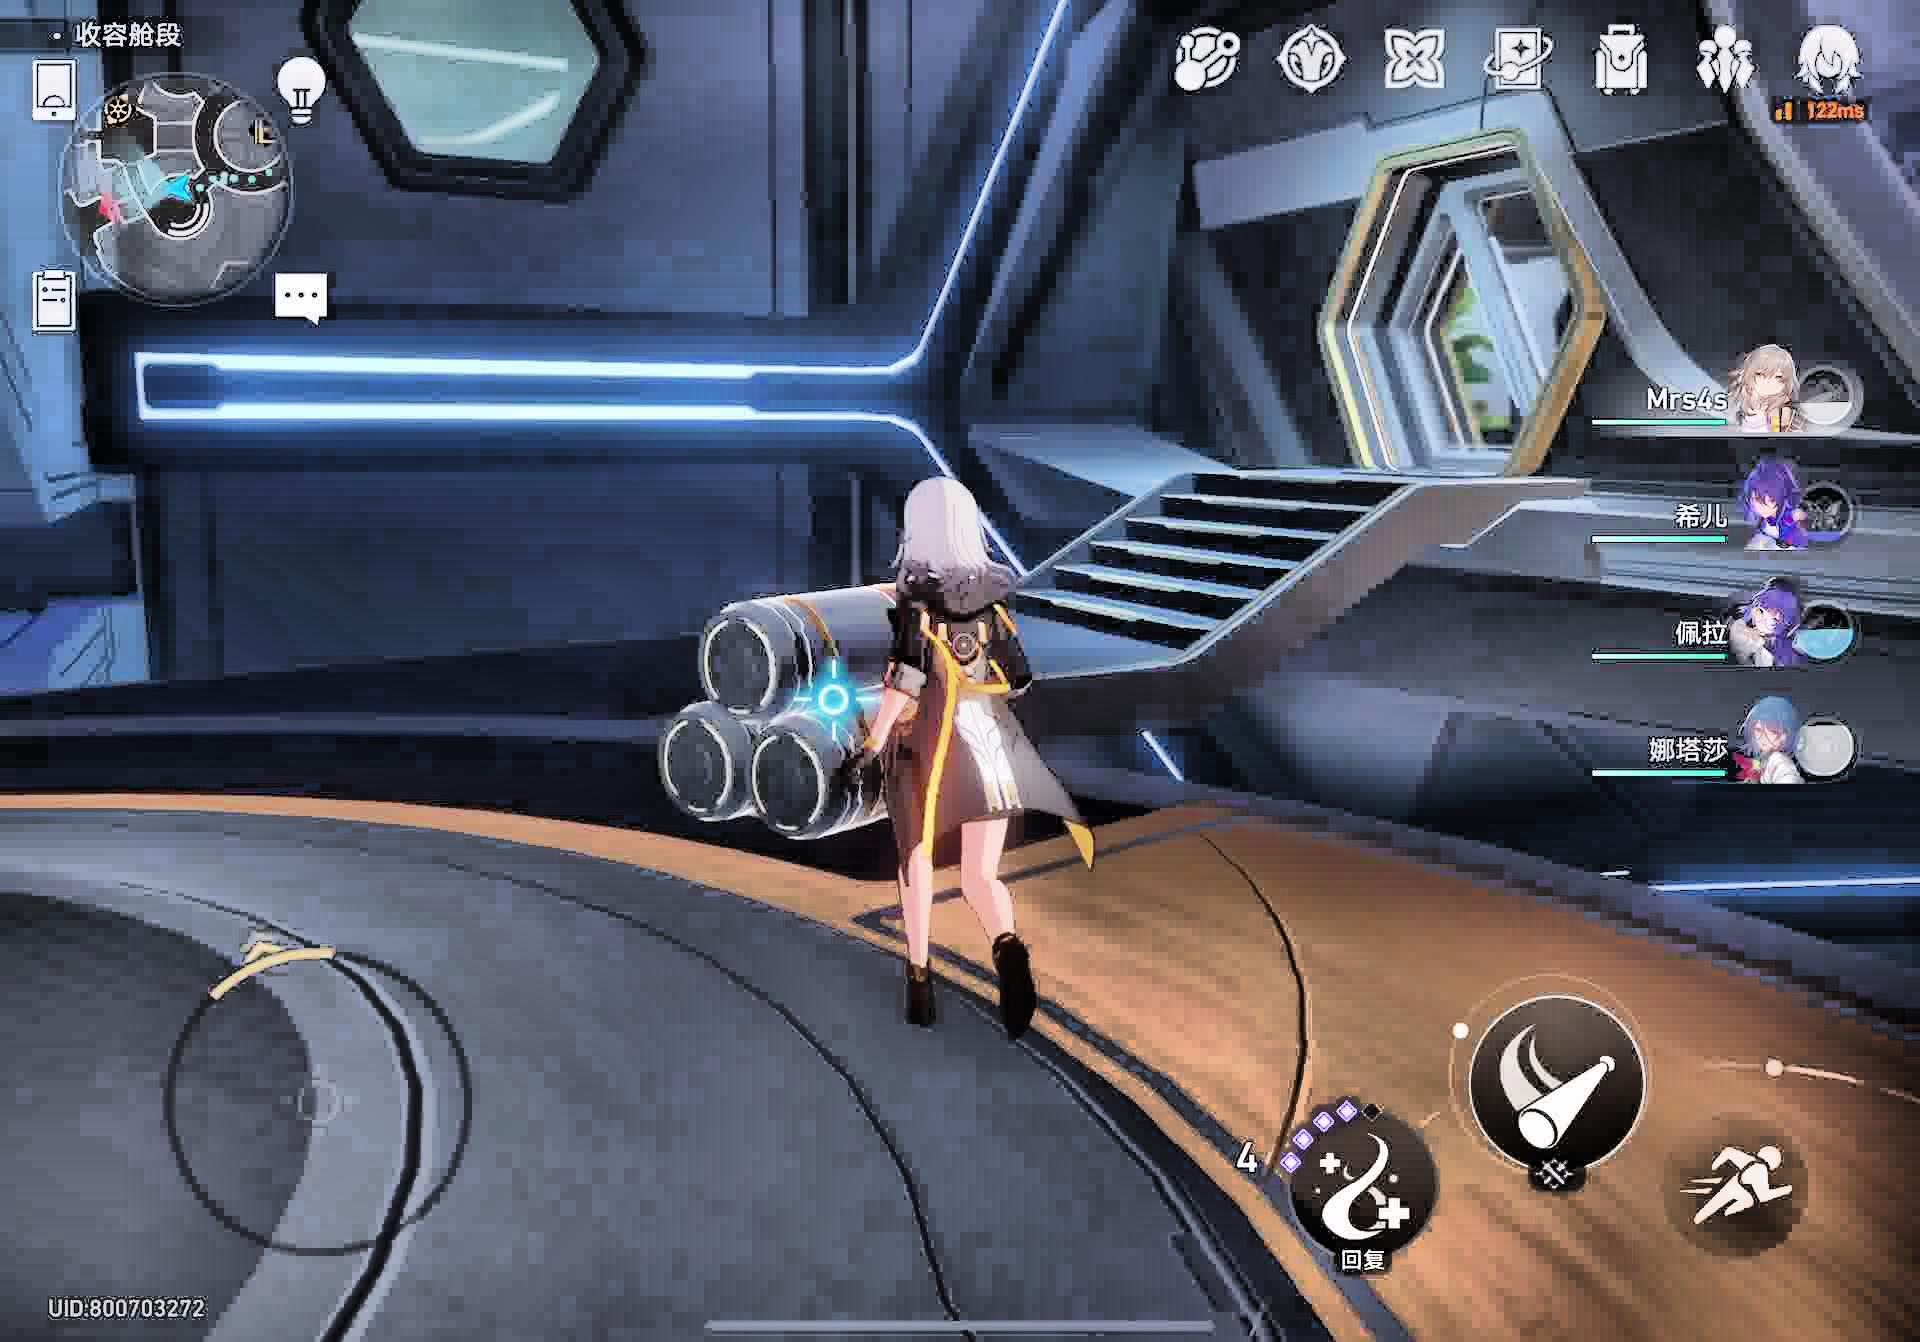Box: (646, 583, 1004, 842)
Self: (853, 481, 1094, 1047)
